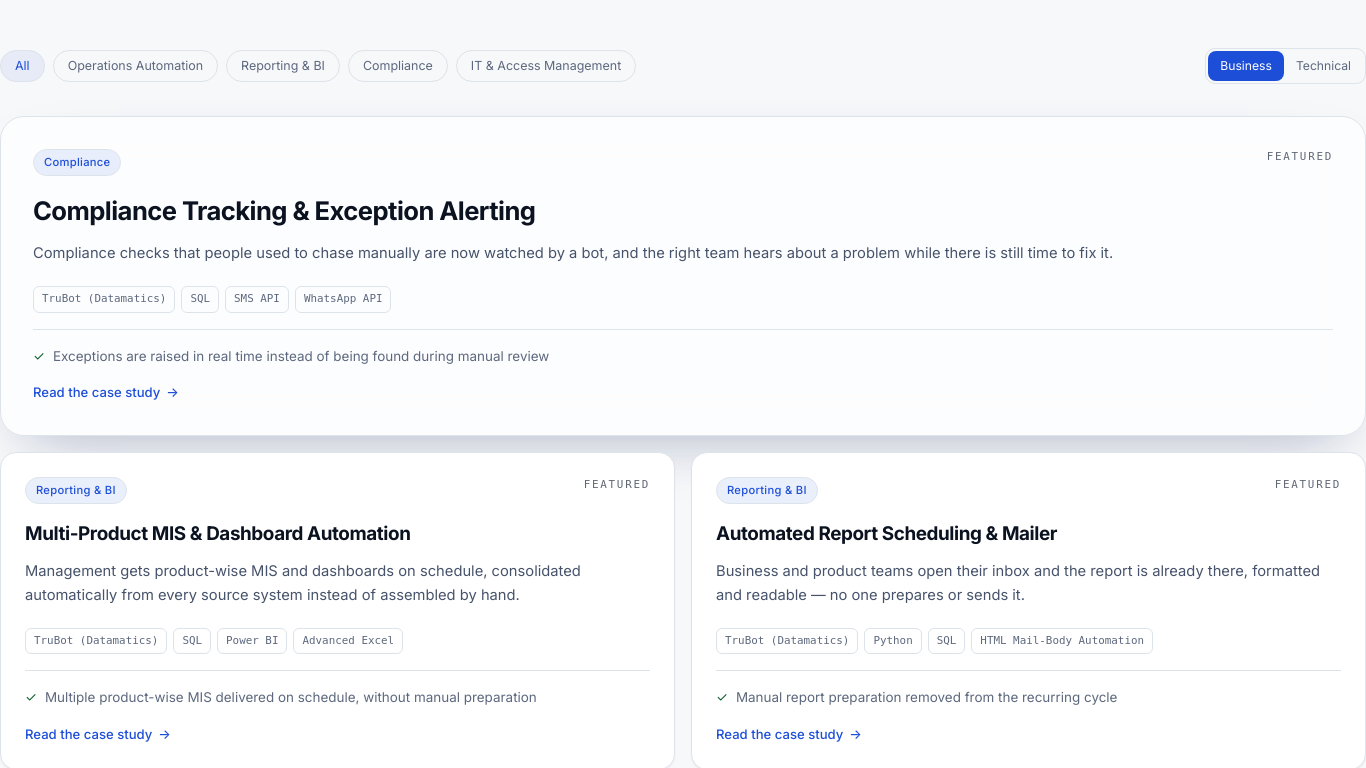
ProjectsSection › recovers from a category that matches nothing
The width and height of the screenshot is (1366, 768).
Click the button with test id "project-filter-compliance". click: (398, 66)
box: [348,50,448,82]
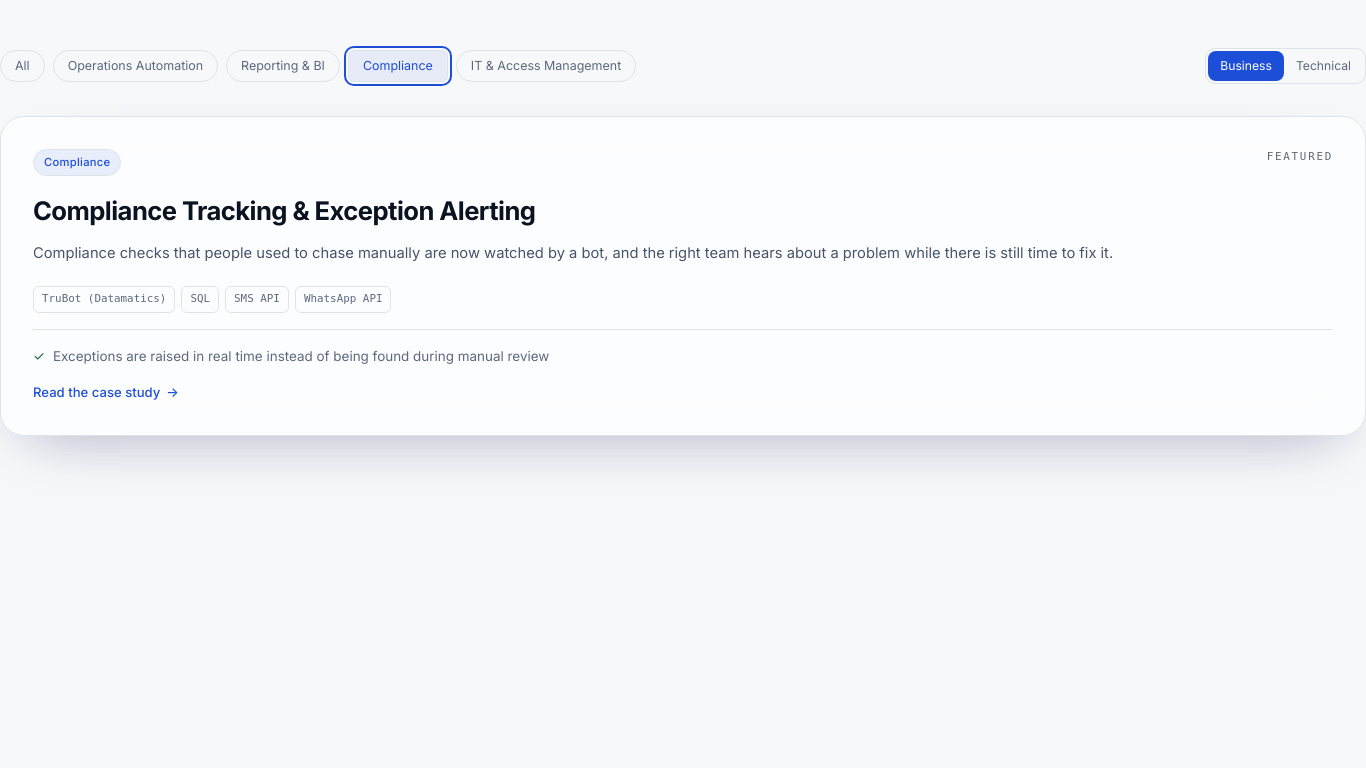
Click the button with test id "project-filter-all". click: (22, 66)
box: [0,50,45,82]
(page scrolled)
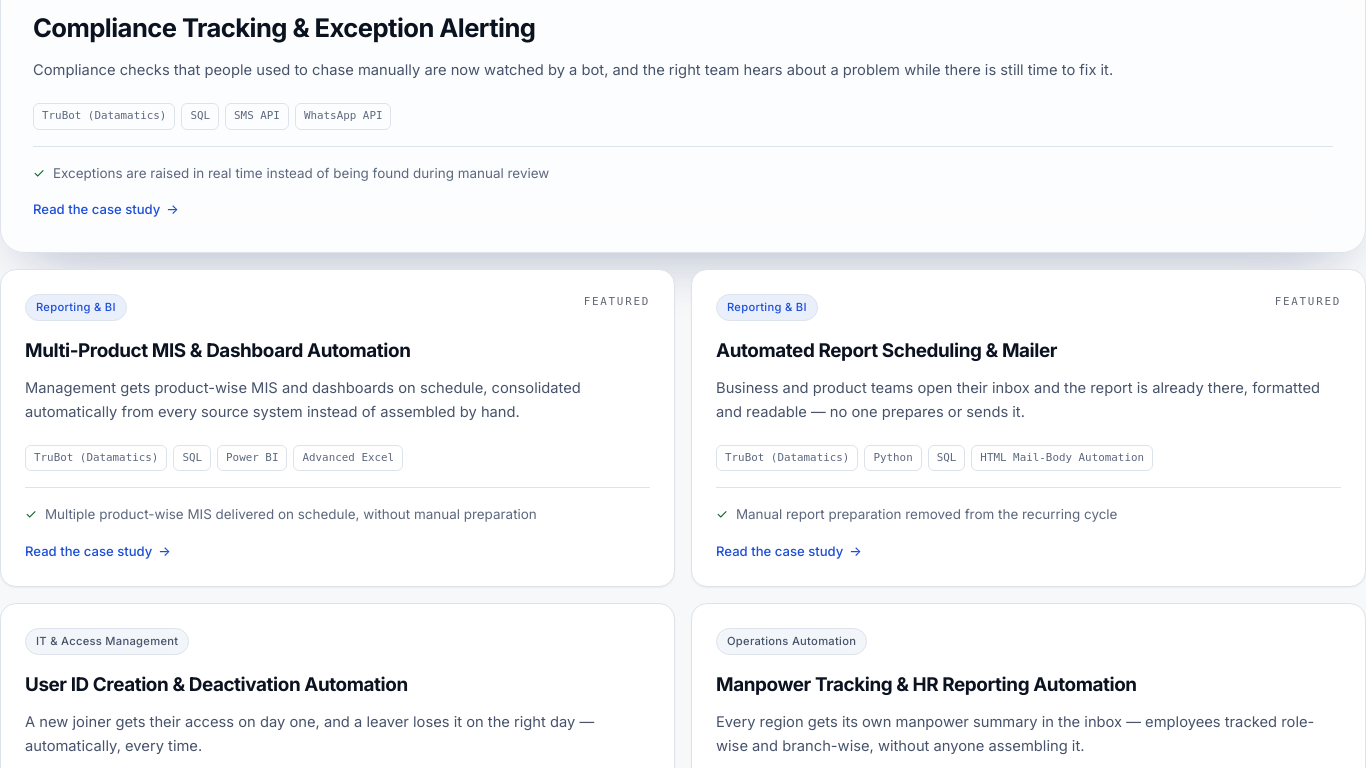
expect the element with test id "project-card-report-scheduling-mailer" is shown: met, box [691,269,1365,587]
